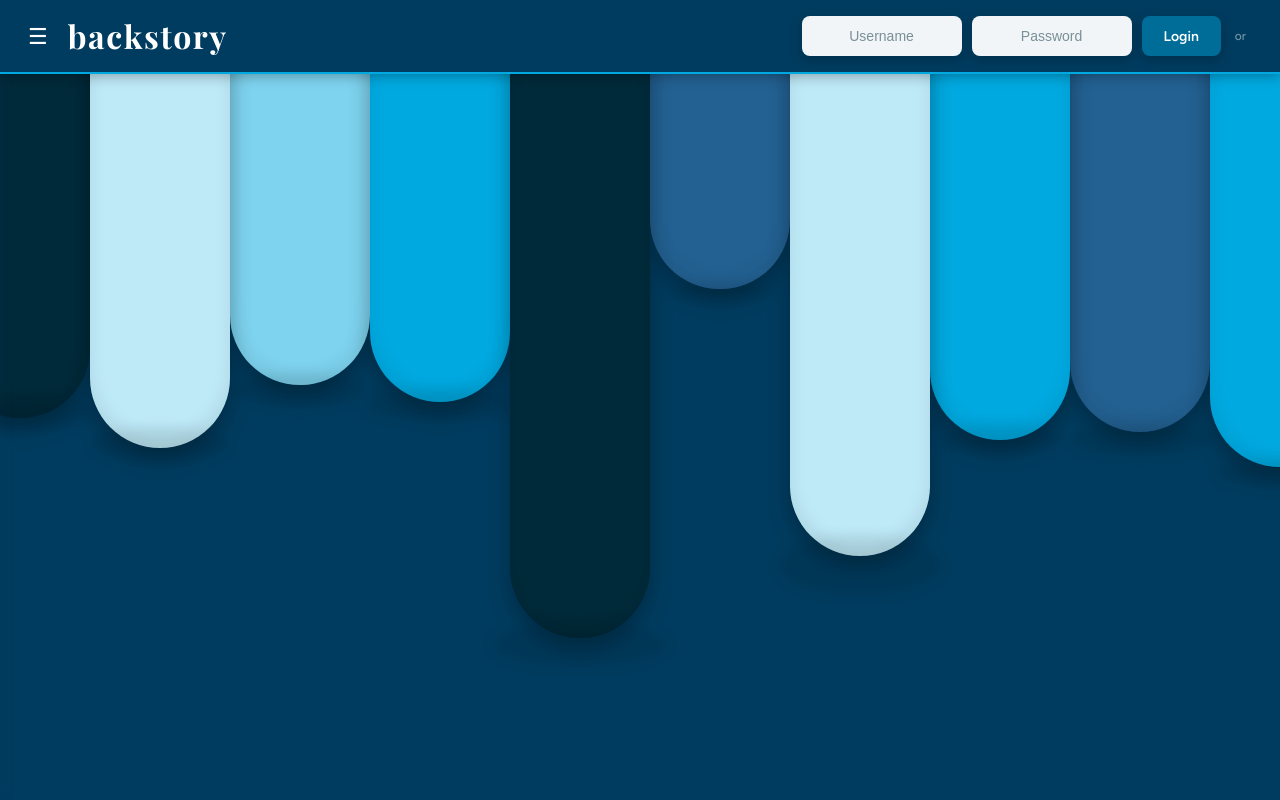
Test case: Landing — filter panel › opens the filter panel when the hamburger is clicked
This screenshot has width=1280, height=800.
Click the button named "Toggle filters" at (38, 36), box [20,18,56,54]
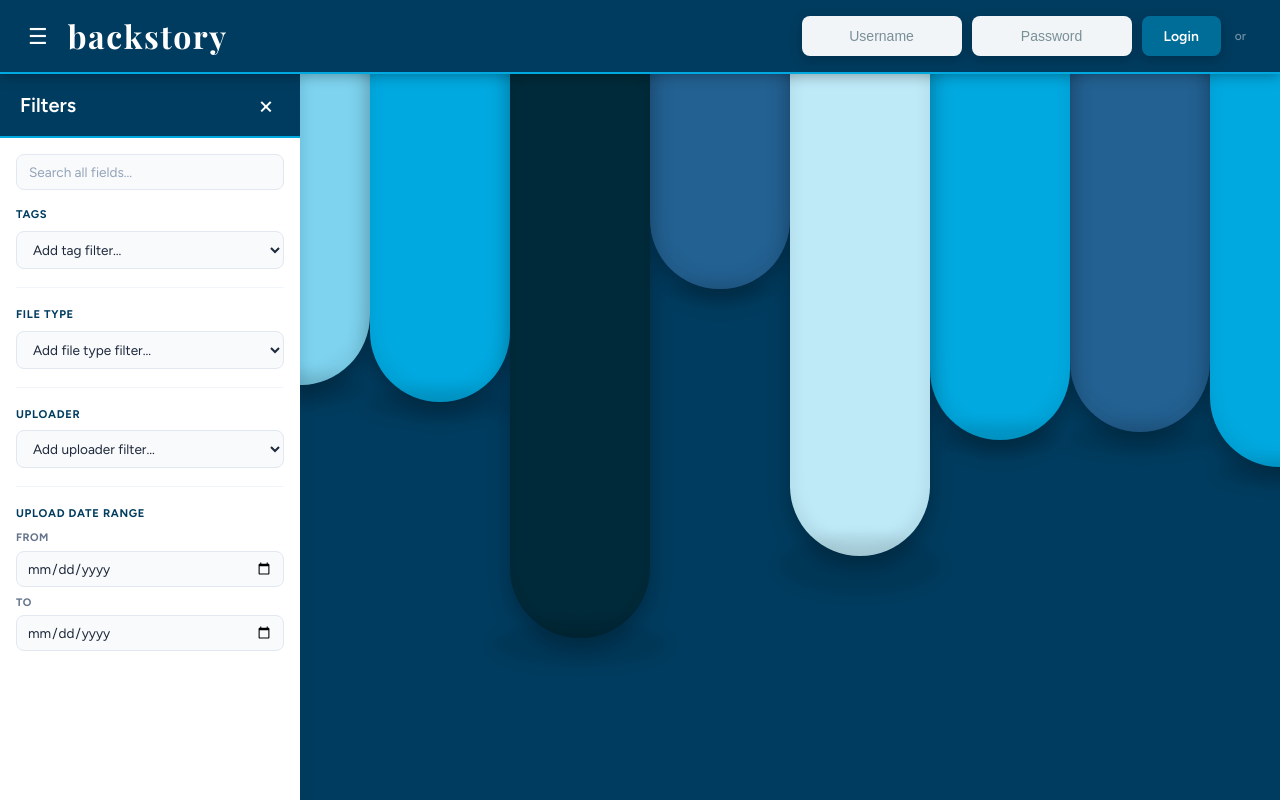
Now the element with class "open" is shown, box [0,74,300,799]
